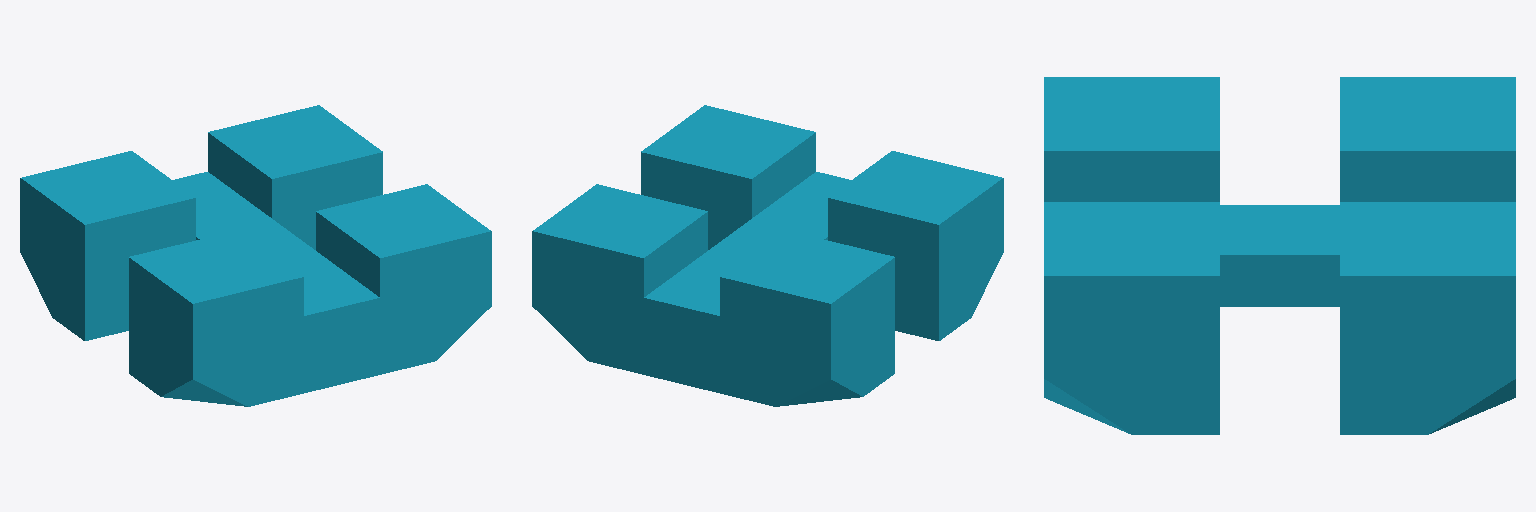
The robot description file, URDF, robot "obj_1":
<robot name="obj_1" version="1.0">
  <link name="obj_1">
    <collision name="interlocking-puzzle-1-1-collision.001">
      <origin rpy="0.00000 0.00000 0.00000" xyz="-0.41734 0.49426 0.12164"/>
      <geometry>
        <mesh filename="../meshes/obj/interlocking-puzzle-1-1-collision.001.obj" scale="2.09740 2.09740 2.09740"/>
      </geometry>
    </collision>
    <collision name="interlocking-puzzle-1-1-collision.002">
      <origin rpy="0.00000 0.00000 0.00000" xyz="-0.61457 0.29707 0.19945"/>
      <geometry>
        <mesh filename="../meshes/obj/interlocking-puzzle-1-1-collision.002.obj" scale="2.09740 2.09740 2.09740"/>
      </geometry>
    </collision>
    <collision name="interlocking-puzzle-1-1-collision.003">
      <origin rpy="0.00000 0.00000 0.00000" xyz="-0.41734 0.67679 0.08287"/>
      <geometry>
        <mesh filename="../meshes/obj/interlocking-puzzle-1-1-collision.003.obj" scale="2.09740 2.09740 2.09740"/>
      </geometry>
    </collision>
    <collision name="interlocking-puzzle-1-1-collision.004">
      <origin rpy="0.00000 0.00000 0.00000" xyz="-0.41734 0.31179 0.08287"/>
      <geometry>
        <mesh filename="../meshes/obj/interlocking-puzzle-1-1-collision.004.obj" scale="2.09740 2.09740 2.09740"/>
      </geometry>
    </collision>
    <collision name="interlocking-puzzle-1-1-collision.005">
      <origin rpy="0.00000 0.00000 0.00000" xyz="-0.22011 0.29707 0.19945"/>
      <geometry>
        <mesh filename="../meshes/obj/interlocking-puzzle-1-1-collision.005.obj" scale="2.09740 2.09740 2.09740"/>
      </geometry>
    </collision>
    <collision name="interlocking-puzzle-1-1-collision.006">
      <origin rpy="0.00000 0.00000 0.00000" xyz="-0.61457 0.69154 0.19945"/>
      <geometry>
        <mesh filename="../meshes/obj/interlocking-puzzle-1-1-collision.006.obj" scale="2.09740 2.09740 2.09740"/>
      </geometry>
    </collision>
    <collision name="interlocking-puzzle-1-1-collision.007">
      <origin rpy="0.00000 0.00000 0.00000" xyz="-0.22011 0.69154 0.19945"/>
      <geometry>
        <mesh filename="../meshes/obj/interlocking-puzzle-1-1-collision.007.obj" scale="2.09740 2.09740 2.09740"/>
      </geometry>
    </collision>
    <inertial>
      <inertia ixx="0.00516" ixy="0.00000" ixz="0.00000" iyy="0.00466" iyz="0.00000" izz="0.00872"/>
      <origin rpy="0.00000 0.00000 0.00000" xyz="-0.41734 0.49431 0.11563"/>
      <mass value="0.03000"/>
    </inertial>
    <visual name="interlocking-puzzle-1-1">
      <material name="Light Blue"/>
      <origin rpy="0.00000 0.00000 0.00000" xyz="-0.41734 0.49431 0.13265"/>
      <geometry>
        <mesh filename="../meshes/obj/interlocking-puzzle-1.obj" scale="0.01049 0.01049 0.01049"/>
      </geometry>
    </visual>
  </link>
  <material name="Light Blue">
    <color rgba="0.15294 0.68627 0.80000 1.00000"/>
  </material>
</robot>

--- What the picture shows (computed from the rendered views, not written in the file) ---
The picture shows the robot from 3 angles, left to right: view 1: azimuth 30°, elevation 25°; view 2: azimuth 150°, elevation 25°; view 3: azimuth 270°, elevation 25°; orthographic projection.
Robot: obj_1 — 1 links, 0 joints (none); root link obj_1; default pose: all joints at 0.
Visible links, largest first — view 1: obj_1; view 2: obj_1; view 3: obj_1.
Boxes of the visible links, x1,y1,x2,y2 form: obj_1: (20,105,491,406); obj_1: (532,105,1003,406); obj_1: (1044,77,1515,434).
Size in the robot's own frame: 0.6294 by 0.6294 by 0.2348 metres.
Meshes: 1 distinct files referenced, 1 mesh visuals loaded (1 OBJ).